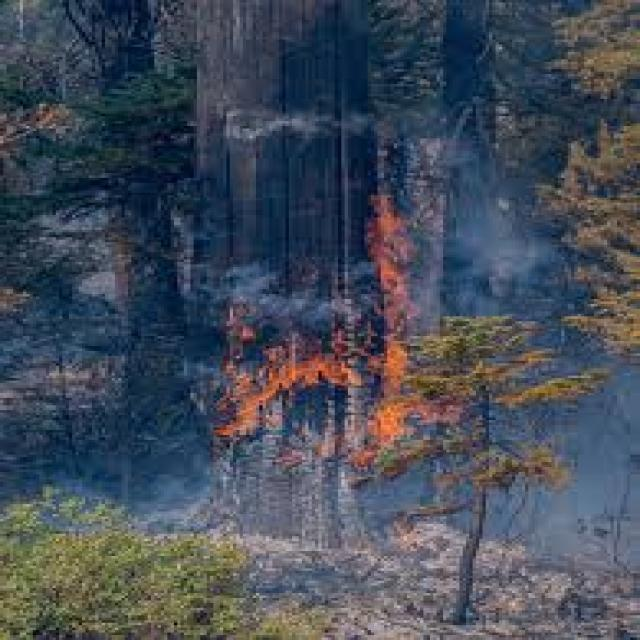Fire: (356, 188, 439, 460), (198, 332, 360, 439)
Smoke: (566, 401, 640, 531), (563, 421, 634, 518), (477, 202, 533, 290)
